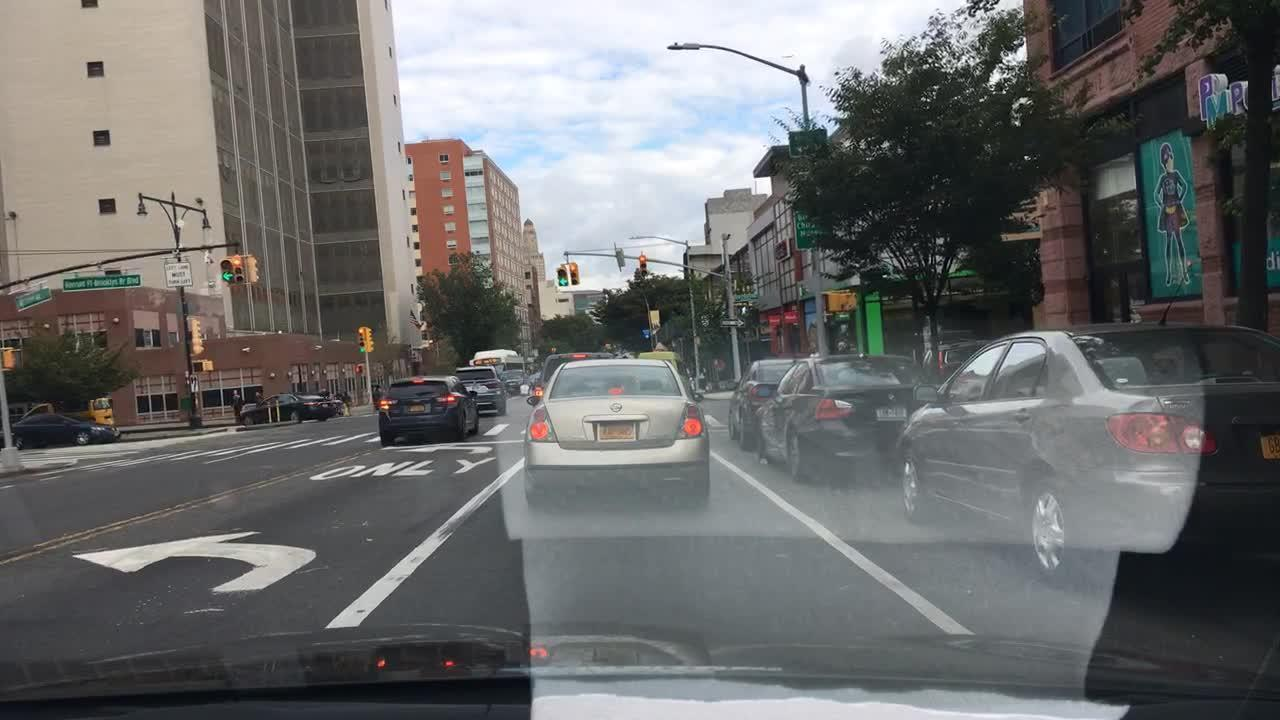Nissan: (604, 396, 629, 420)
bmw: (884, 391, 898, 404)
